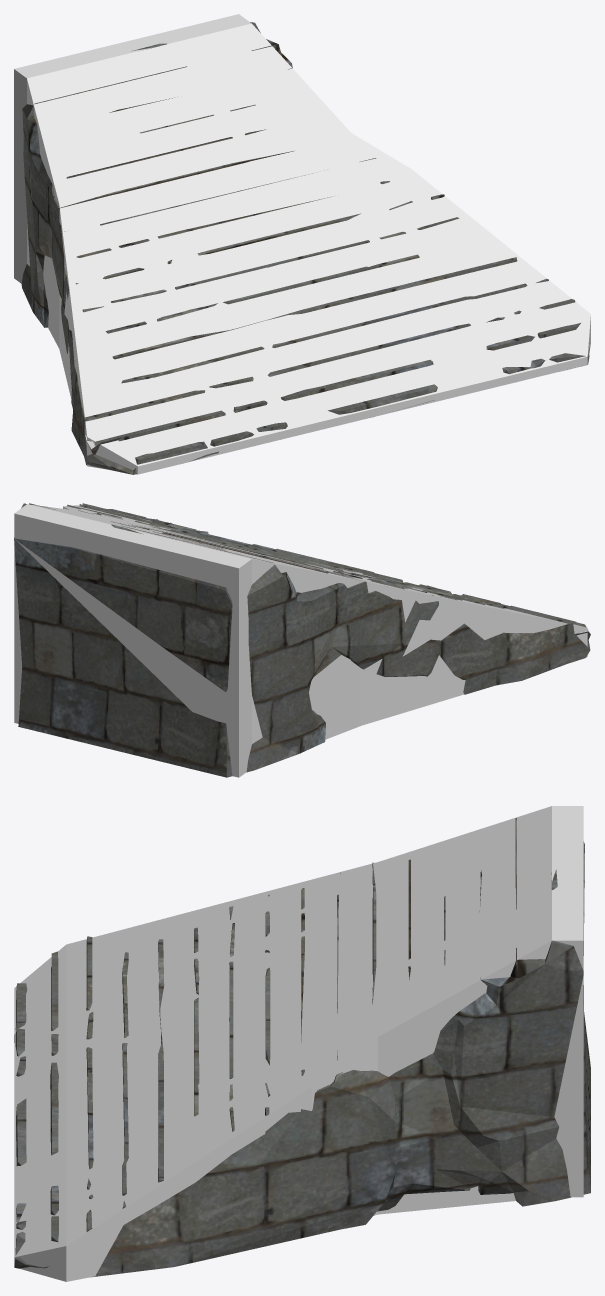
Rendered from Stair 1.fbx.
3 renders of one model, top to bottom at view 1: azimuth 30°, elevation 25°; view 2: azimuth 150°, elevation 25°; view 3: azimuth 270°, elevation 25°, orthographic. The views are drawn at different scales.
Visible parts, largest first — view 1: Plane.001, Stair 1; view 2: Stair 1, Plane.001; view 3: Plane.001, Stair 1.
Part boxes in pixels (x1=…): Plane.001: x1=14, y1=14, x2=590, y2=474; Stair 1: x1=21, y1=22, x2=589, y2=474; Stair 1: x1=14, y1=503, x2=590, y2=777; Plane.001: x1=14, y1=504, x2=587, y2=777; Plane.001: x1=14, y1=806, x2=583, y2=1281; Stair 1: x1=14, y1=818, x2=590, y2=1277.
Size of the model in its own units: 2722 by 1082 by 2194.
1 material, 1 textured.
